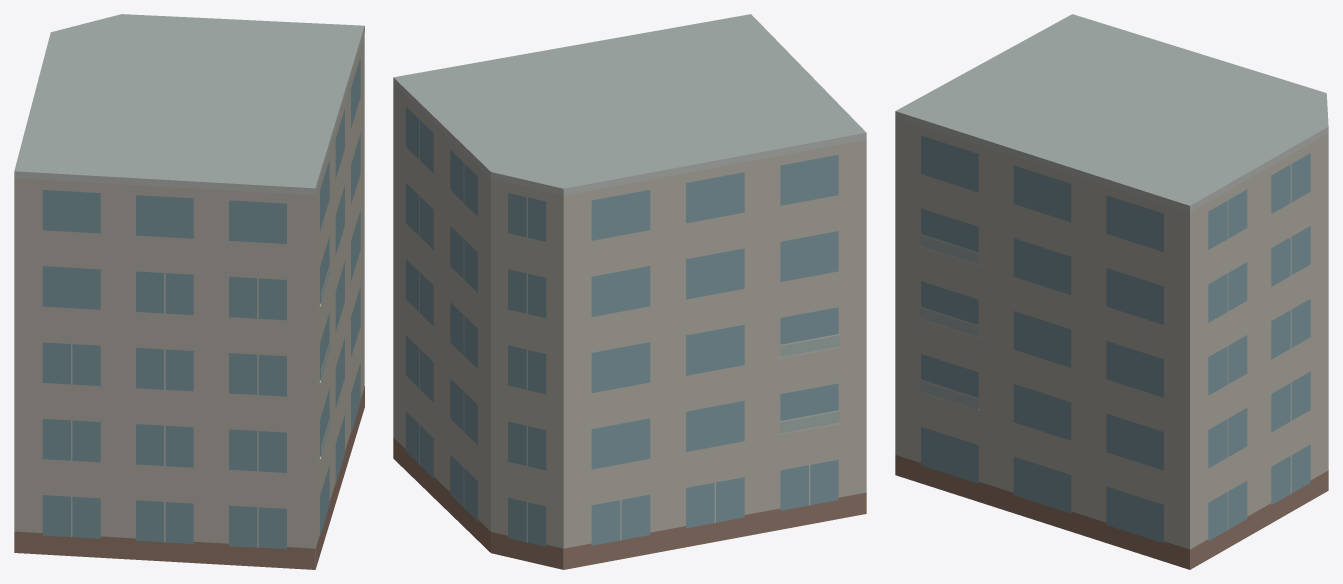
The model's file is survey-upis-33035840.glb.
The picture shows the model from 3 angles, left to right: view 1: azimuth 30°, elevation 25°; view 2: azimuth 150°, elevation 25°; view 3: azimuth 270°, elevation 25°; orthographic projection. The views are drawn at different scales.
Visible parts, largest first — view 1: survey-upis-33035840.tmp; view 2: survey-upis-33035840.tmp; view 3: survey-upis-33035840.tmp.
Part boxes in pixels (x1,y1,x2,y2): survey-upis-33035840.tmp: [14, 14, 364, 569]; survey-upis-33035840.tmp: [393, 14, 866, 569]; survey-upis-33035840.tmp: [895, 14, 1328, 569].
Bounding box in the file's own units: 15.21 × 13.45 × 14.52.
